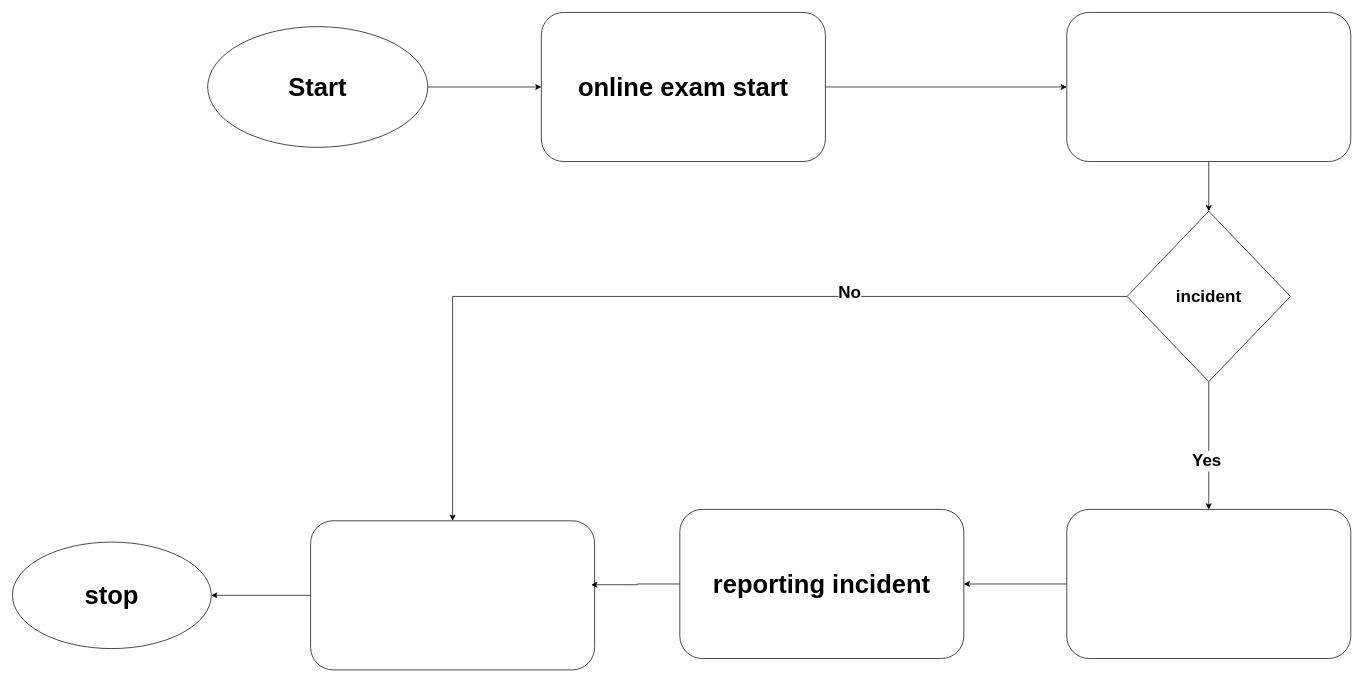
The diagram is 1363 pixels wide and 682 high, and some of its shapes have lost their labels. Each missing label, with the centre of its shape:
"Module Intrusion" goes at point 1208,87.
"online exam end" goes at point 452,595.
"send notification" goes at point 1208,584.
